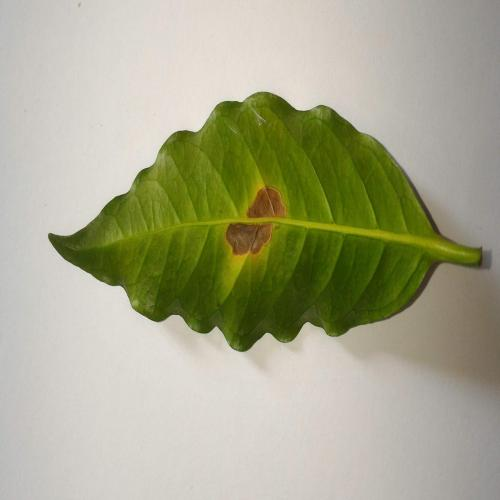leaf: (225, 185, 287, 261)
